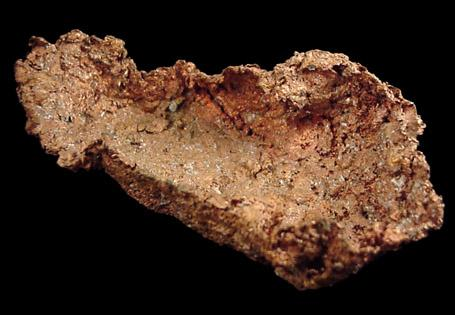copper: (15, 30, 444, 290)
